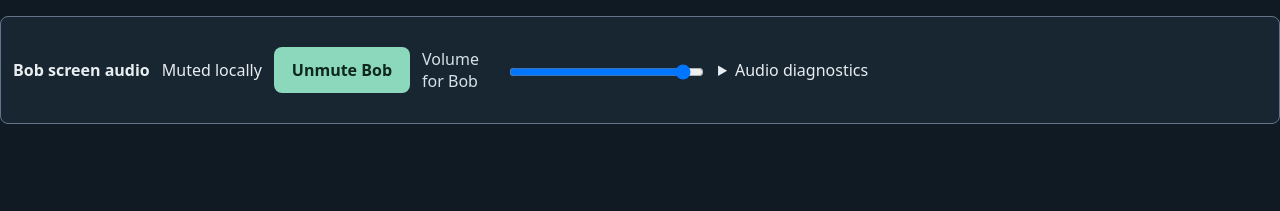
Test: autoplay rejection provides an explicit retry and recovers
This screenshot has width=1280, height=211.
Click the button "Unmute Bob": x=342, y=70 [274,47,410,93]
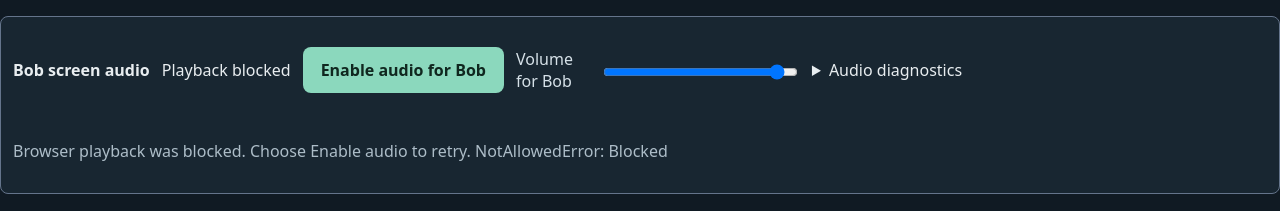
Result: the text "Playback blocked" is shown at [162,59,291,81]
Click the button "Enable audio for Bob": x=403, y=70 [303,47,504,93]
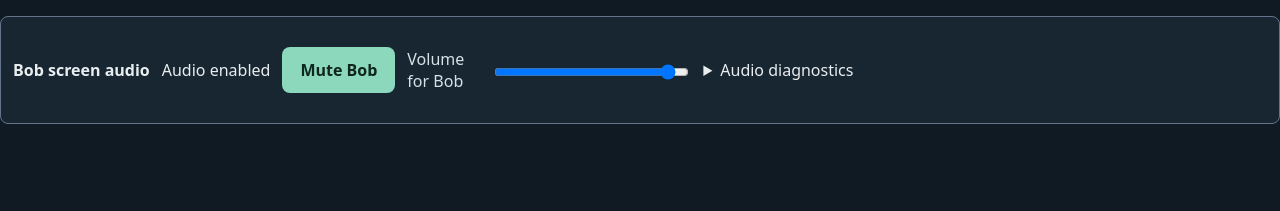
Result: the text "Audio enabled" is shown at [162,59,270,81]
